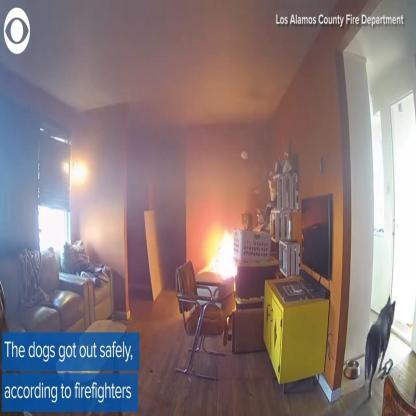fire: (207, 228, 240, 277)
